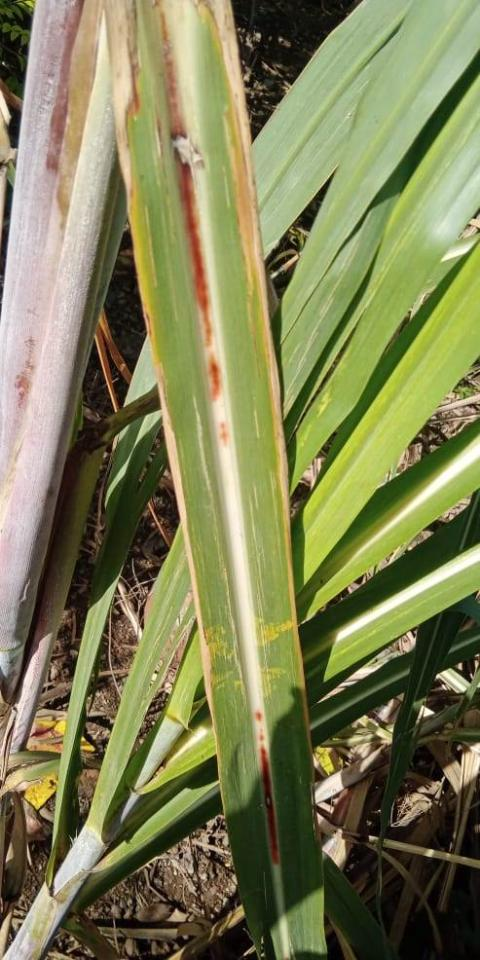RedRot: (161, 2, 230, 453), (251, 707, 281, 870)
Yellow: (202, 2, 255, 294), (128, 169, 152, 351)
